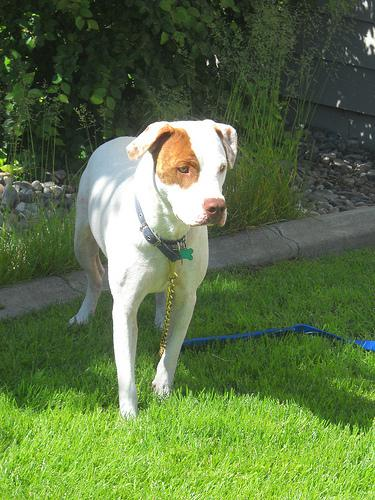dog-american_bulldog: (125, 118, 236, 225)
